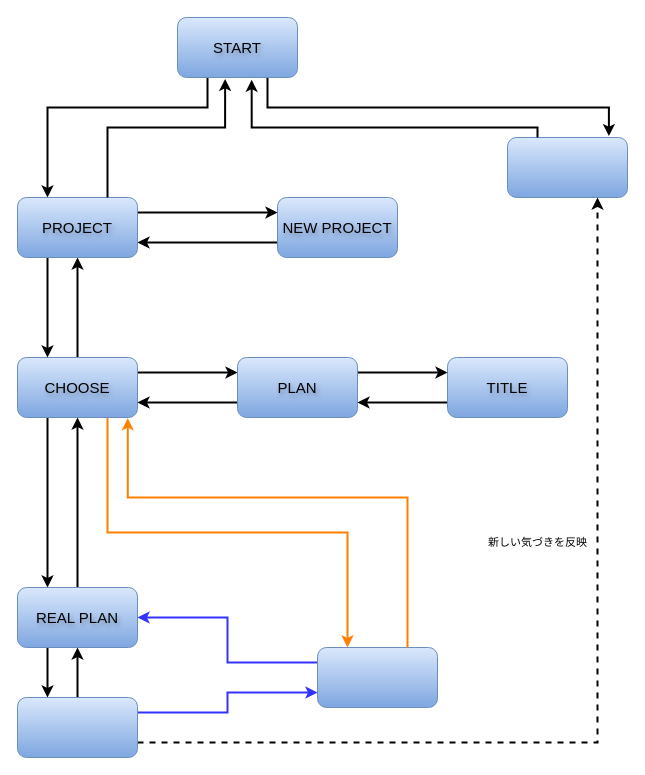
Image size: 645x775. Some labels were removed from this diagram. The centre of each missing label's shape, as x and y in pixels:
"CHECK" belongs at (567,167).
"EVALUATE" belongs at (77,727).
"SCORE" belongs at (377,677).
